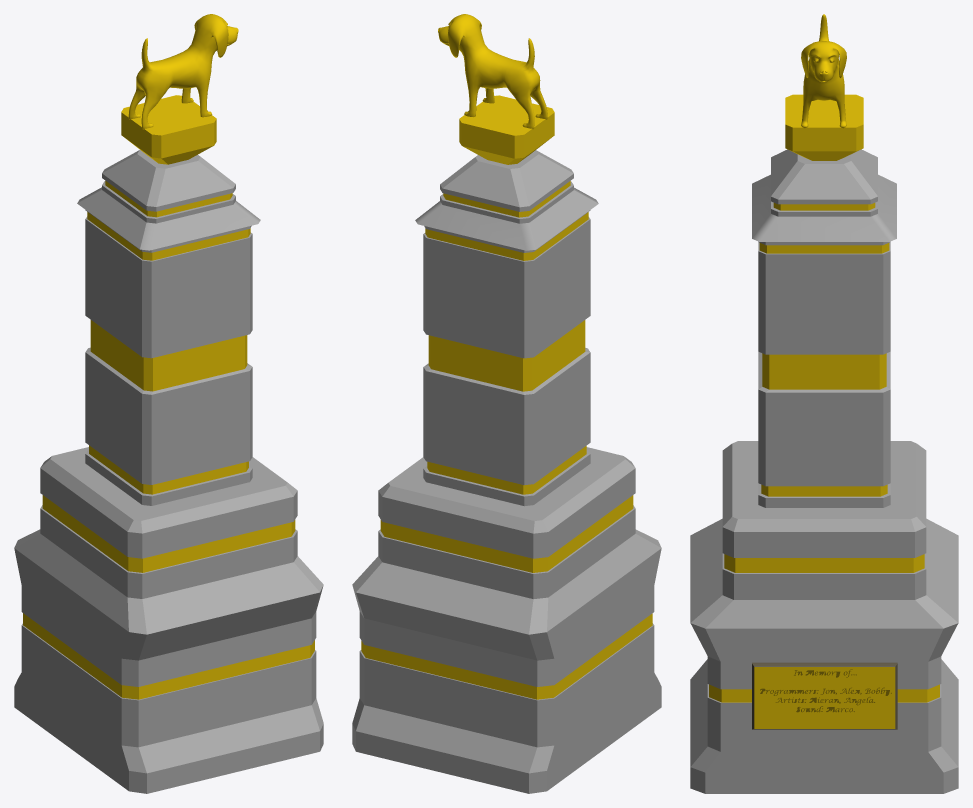
The model's file is statue.fbx.
3 renders of one model, left to right at view 1: azimuth 30°, elevation 25°; view 2: azimuth 150°, elevation 25°; view 3: azimuth 270°, elevation 25°, orthographic. The views are drawn at different scales.
Visible parts, largest first — view 1: pasted__pasted__pasted__pasted__pasted__pasted__pasted__past; view 2: pasted__pasted__pasted__pasted__pasted__pasted__pasted__past; view 3: pasted__pasted__pasted__pasted__pasted__pasted__pasted__past.
Boxes of the visible parts, <box> form: pasted__pasted__pasted__pasted__pasted__pasted__pasted__past: <box>14,14,323,793</box>; pasted__pasted__pasted__pasted__pasted__pasted__pasted__past: <box>352,14,661,793</box>; pasted__pasted__pasted__pasted__pasted__pasted__pasted__past: <box>690,14,958,793</box>.
Bounding box in the file's own units: 15.98 × 53.46 × 17.91.
